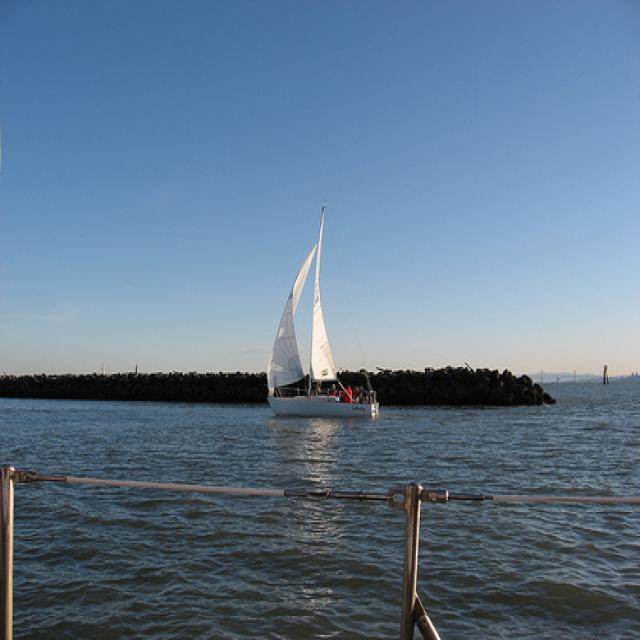Ship: (263, 204, 388, 423)
